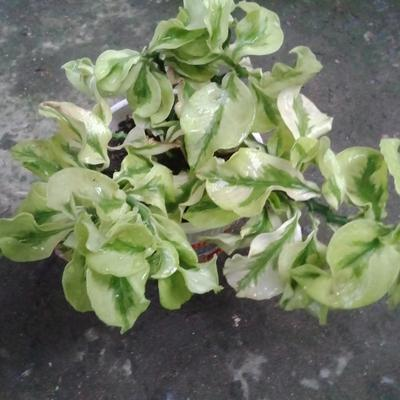Pothos plant: (23, 1, 380, 304)
